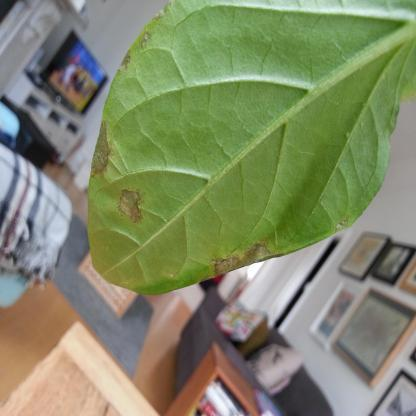Bell_pepper leaf: (86, 3, 378, 297)
